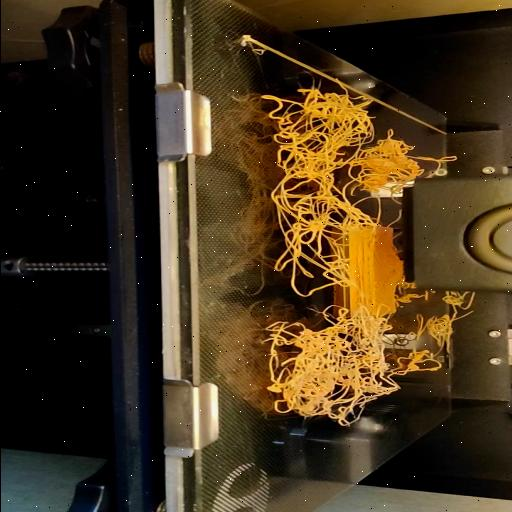spaghetti: (254, 76, 408, 428), (408, 291, 482, 373), (408, 143, 456, 176)
